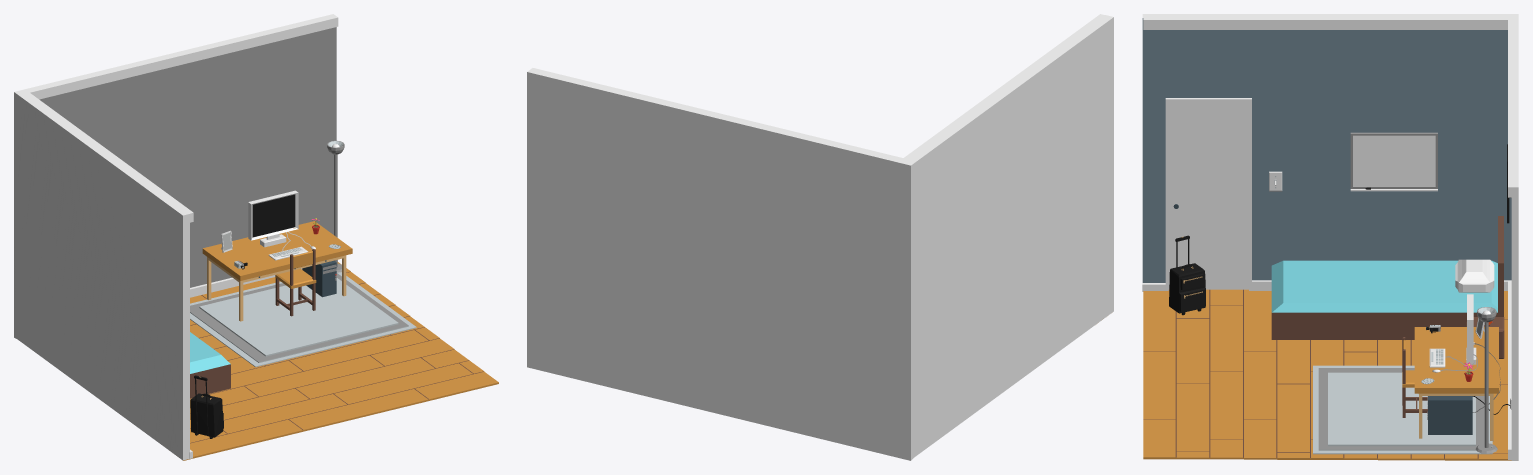
File: Room1.glb
The picture shows the model from 3 angles, left to right: view 1: azimuth 30°, elevation 25°; view 2: azimuth 150°, elevation 25°; view 3: azimuth 270°, elevation 25°; orthographic projection. The views are drawn at different scales.
Visible parts, largest first — view 1: Node; view 2: Node; view 3: Node.
Boxes of the visible parts, x1,y1,x2,y2 form: Node: [14, 14, 498, 460]; Node: [527, 14, 1113, 460]; Node: [1142, 14, 1518, 460].
Size of the model in its own units: 4.04 by 2.97 by 3.71.
